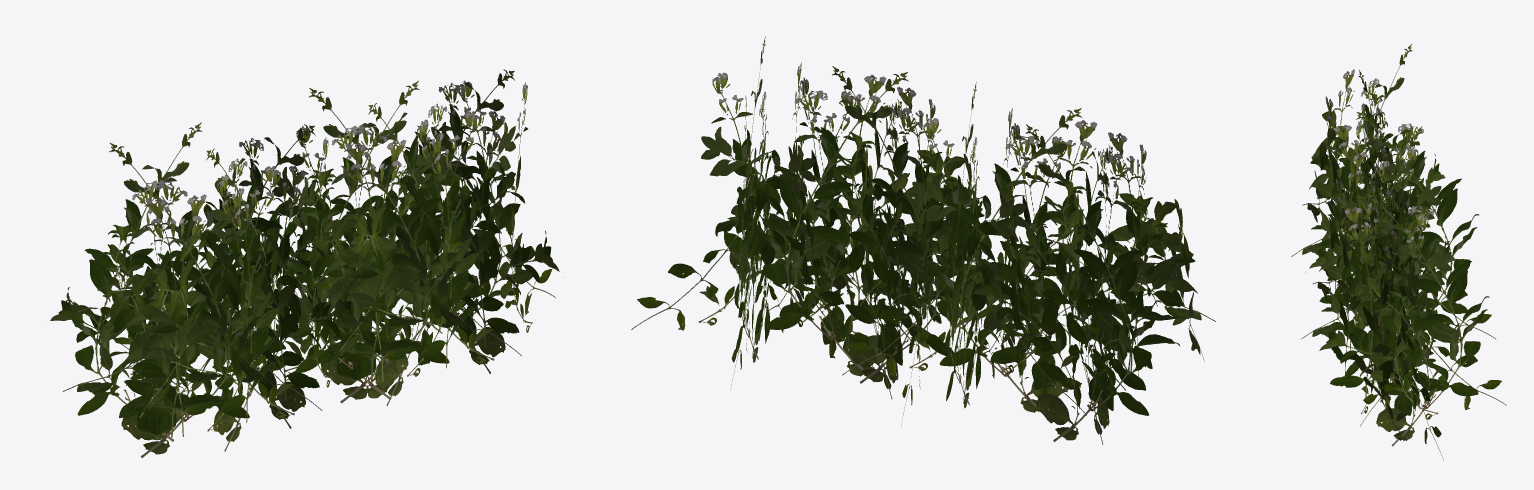
Rendered from flowers_whitecampion.fbx.
3 renders of one model, left to right at view 1: azimuth 30°, elevation 25°; view 2: azimuth 150°, elevation 25°; view 3: azimuth 270°, elevation 25°, orthographic. The views are drawn at different scales.
Parts seen in each view (by area): view 1: Plane_031; view 2: Plane_031; view 3: Plane_031.
Boxes of the visible parts, x1,y1,x2,y2 form: Plane_031: [50, 69, 563, 457]; Plane_031: [631, 36, 1215, 444]; Plane_031: [1291, 44, 1506, 460].
Size of the model in its own units: 309 by 175 by 144.
